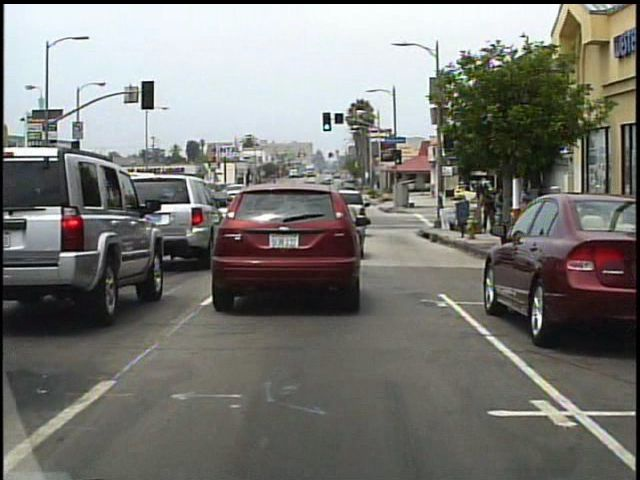person: (518, 185, 534, 234), (481, 186, 498, 229), (496, 189, 504, 227)
